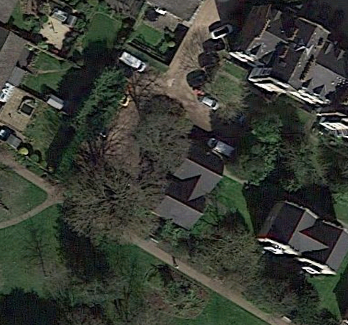tree: (46, 135, 171, 250), (128, 96, 199, 172), (237, 101, 290, 145)
